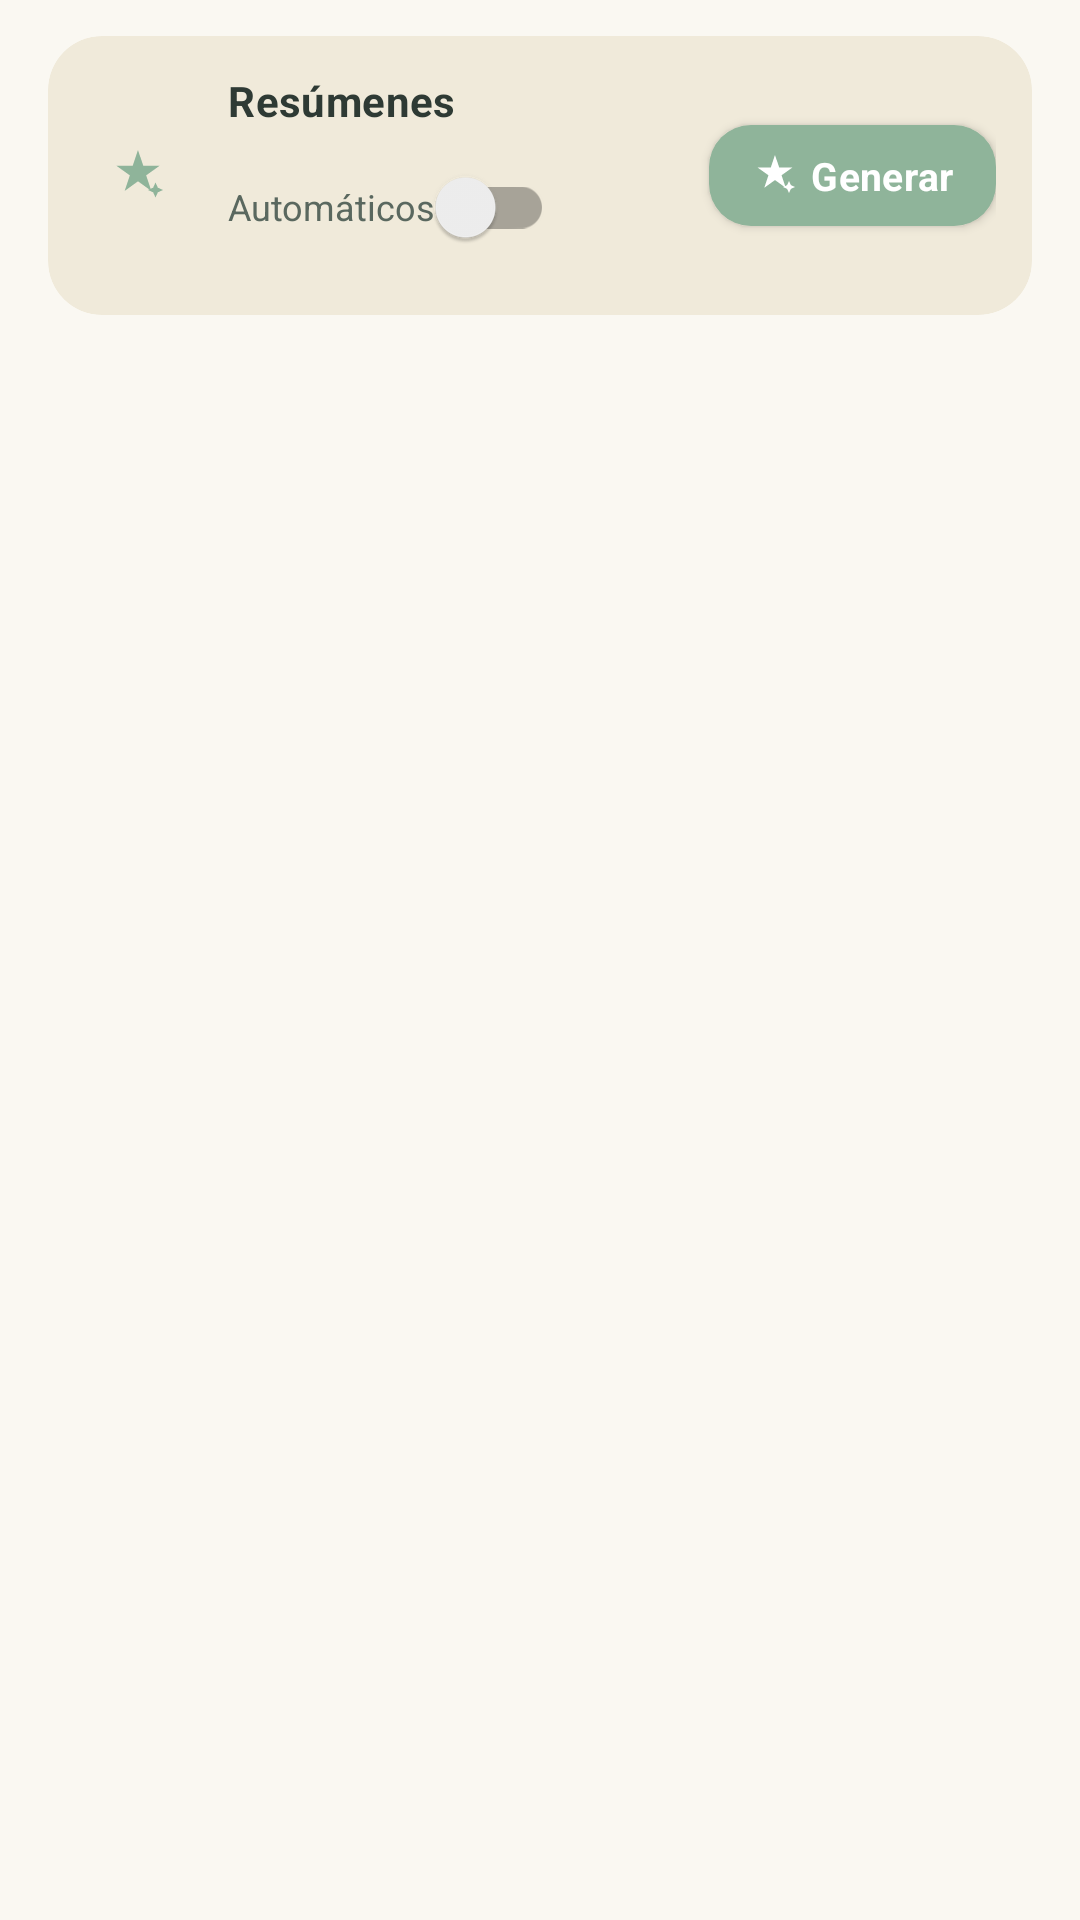

Named icons in this screenshot (1080×1920) and their bounding boxes, (x1, y1, x2, y2):
sparkle: (117, 151, 162, 197)
